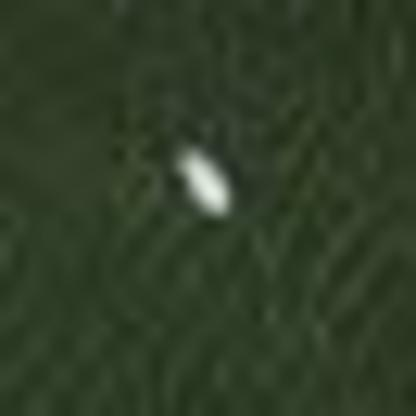ship: (161, 134, 245, 230)
